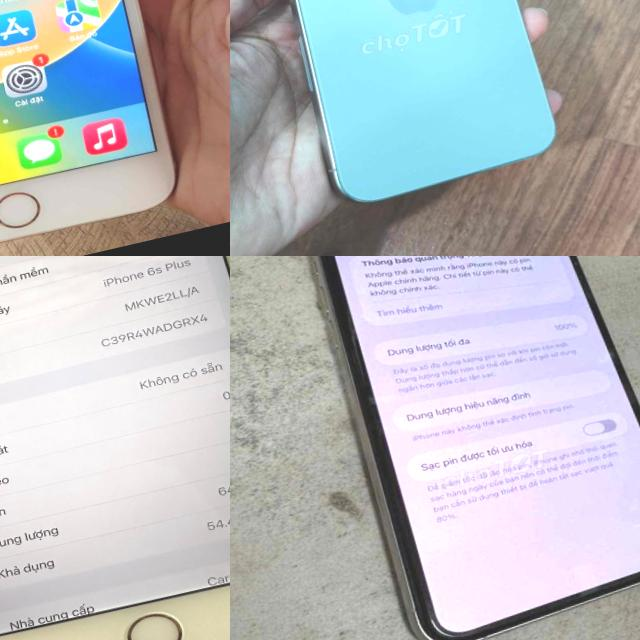gen_11: (313, 256, 640, 640)
gen_15: (233, 0, 579, 222)
gen_6: (0, 256, 230, 640)
gen_7_8: (0, 0, 197, 256)
